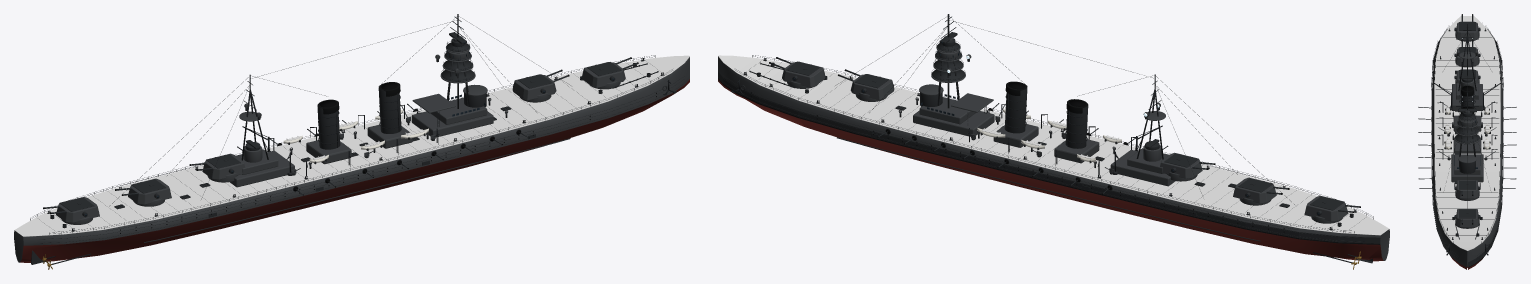
3 views of the same model, side by side, from view 1: azimuth 30°, elevation 25°; view 2: azimuth 150°, elevation 25°; view 3: azimuth 270°, elevation 25° (orthographic). The views are drawn at different scales.
Parts seen in each view (by area): view 1: Amagi_Main_Hull, Main_Teak_Deck, Forward_Deckhouse_Base, Funnel_1, Aft_Deckhouse_Base, Funnel_2, Forward_Deckhouse_Upper, Bilge_Keel_-1, Funnel_Casing_-9.5, Funnel_Casing_13.5, Hull_Strake_-1_2.2, Turret_1_Body (+8 smaller); view 2: Main_Teak_Deck, Amagi_Main_Hull, Armor_Belt_Port, Boot_Topping_Port, Forward_Deckhouse_Base, Funnel_1, Aft_Deckhouse_Base, Funnel_2, Forward_Deckhouse_Upper, Bilge_Keel_1, Funnel_Casing_-9.5, Funnel_Casing_13.5 (+10 smaller); view 3: Main_Teak_Deck, Amagi_Main_Hull, Forward_Deckhouse_Base, Aft_Deckhouse_Base, Turret_1_Body, Turret_2_Body, Turret_5_Body, Forward_Deckhouse_Upper, Armor_Belt_Port, Turret_4_Body, Signal_Deck, Armored_Conning_Tower (+25 smaller).
Boxes of the visible parts, x1,y1,x2,y2 form: Amagi_Main_Hull: (14, 57, 689, 262); Main_Teak_Deck: (14, 55, 689, 236); Forward_Deckhouse_Base: (411, 111, 493, 137); Funnel_1: (378, 88, 401, 133); Aft_Deckhouse_Base: (229, 150, 294, 187); Funnel_2: (317, 106, 340, 149); Forward_Deckhouse_Upper: (430, 97, 487, 124); Bilge_Keel_-1: (144, 138, 570, 242); Funnel_Casing_-9.5: (306, 140, 351, 164); Funnel_Casing_13.5: (367, 124, 412, 148); Hull_Strake_-1_2.2: (39, 79, 684, 239); Turret_1_Body: (582, 62, 625, 87); Main_Teak_Deck: (718, 55, 1389, 235); Amagi_Main_Hull: (718, 56, 1389, 261); Armor_Belt_Port: (718, 72, 1380, 243); Boot_Topping_Port: (718, 78, 1380, 244); Forward_Deckhouse_Base: (913, 110, 994, 136); Funnel_1: (1004, 88, 1027, 133); Aft_Deckhouse_Base: (1110, 150, 1175, 186); Funnel_2: (1065, 105, 1088, 148); Forward_Deckhouse_Upper: (919, 97, 975, 124); Bilge_Keel_1: (837, 137, 1260, 241); Funnel_Casing_-9.5: (1054, 139, 1099, 163); Funnel_Casing_13.5: (993, 124, 1038, 147); Main_Teak_Deck: (1434, 16, 1500, 250); Amagi_Main_Hull: (1432, 41, 1502, 269); Forward_Deckhouse_Base: (1451, 154, 1483, 182); Aft_Deckhouse_Base: (1452, 84, 1482, 110); Turret_1_Body: (1456, 208, 1478, 227); Turret_2_Body: (1456, 180, 1478, 198); Turret_5_Body: (1456, 21, 1478, 40); Forward_Deckhouse_Upper: (1454, 155, 1480, 174); Armor_Belt_Port: (1468, 29, 1503, 266); Turret_4_Body: (1456, 47, 1478, 65); Signal_Deck: (1455, 141, 1479, 151); Armored_Conning_Tower: (1459, 161, 1475, 173).
Size of the model in its own units: 25182 by 5289 by 4288.
